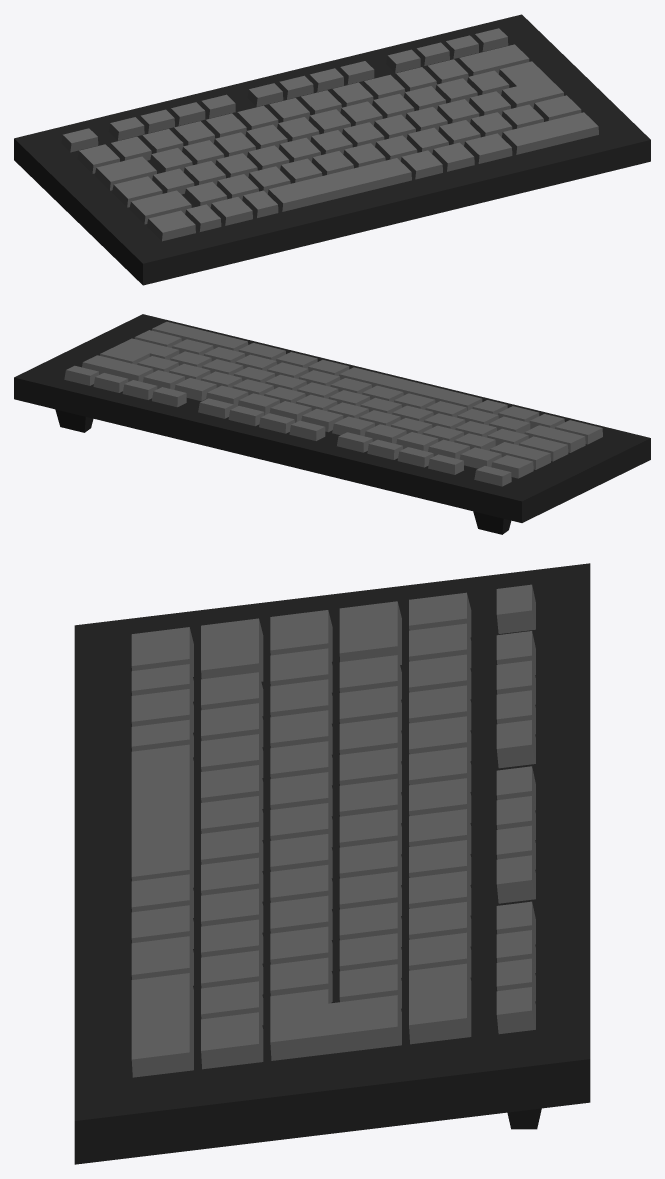
The model's file is KeyboardV1Black.fbx.
3 views of the same model, one above another, from view 1: azimuth 30°, elevation 25°; view 2: azimuth 150°, elevation 25°; view 3: azimuth 270°, elevation 25° (orthographic). The views are drawn at different scales.
Visible parts, largest first — view 1: KeyboardV1Black; view 2: KeyboardV1Black; view 3: KeyboardV1Black.
Part boxes in pixels (<box>): KeyboardV1Black: <box>14,14,650,285</box>; KeyboardV1Black: <box>14,314,650,534</box>; KeyboardV1Black: <box>74,563,590,1164</box>.
Bounding box in the file's own units: 32.52 × 3.6 × 14.3.
